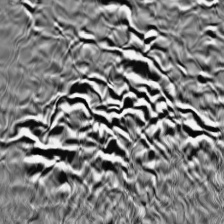cavities: (8, 18, 221, 181)
